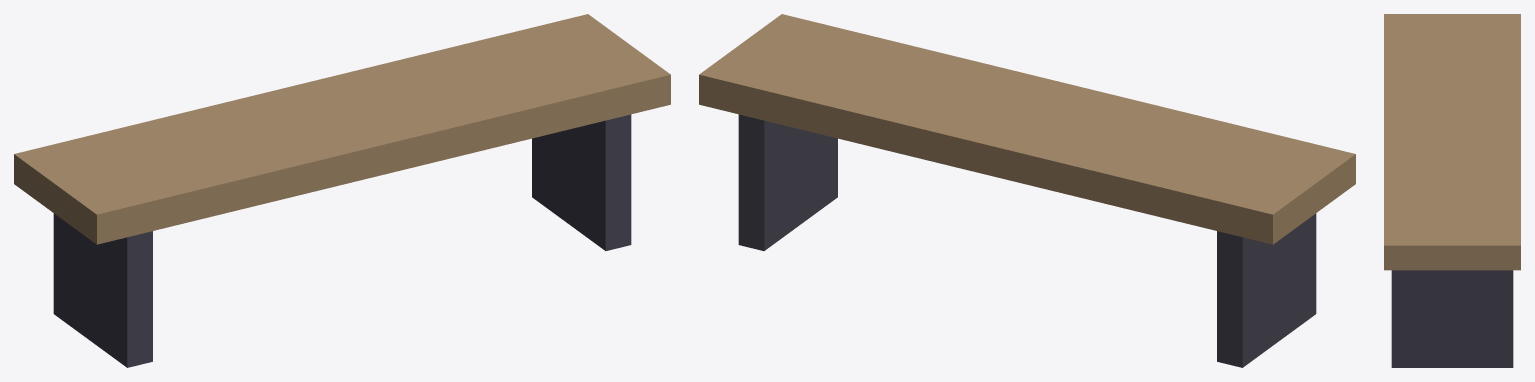
File: banc.glb
3 renders of one model, left to right at view 1: azimuth 30°, elevation 25°; view 2: azimuth 150°, elevation 25°; view 3: azimuth 270°, elevation 25°, orthographic. The views are drawn at different scales.
Parts seen in each view (by area): view 1: banc; view 2: banc; view 3: banc.
Boxes of the visible parts, bbox=[...] form: banc: bbox=[14, 14, 670, 367]; banc: bbox=[699, 14, 1355, 367]; banc: bbox=[1384, 14, 1520, 367].
Size of the model in its own units: 1.8 by 0.495 by 0.45.
